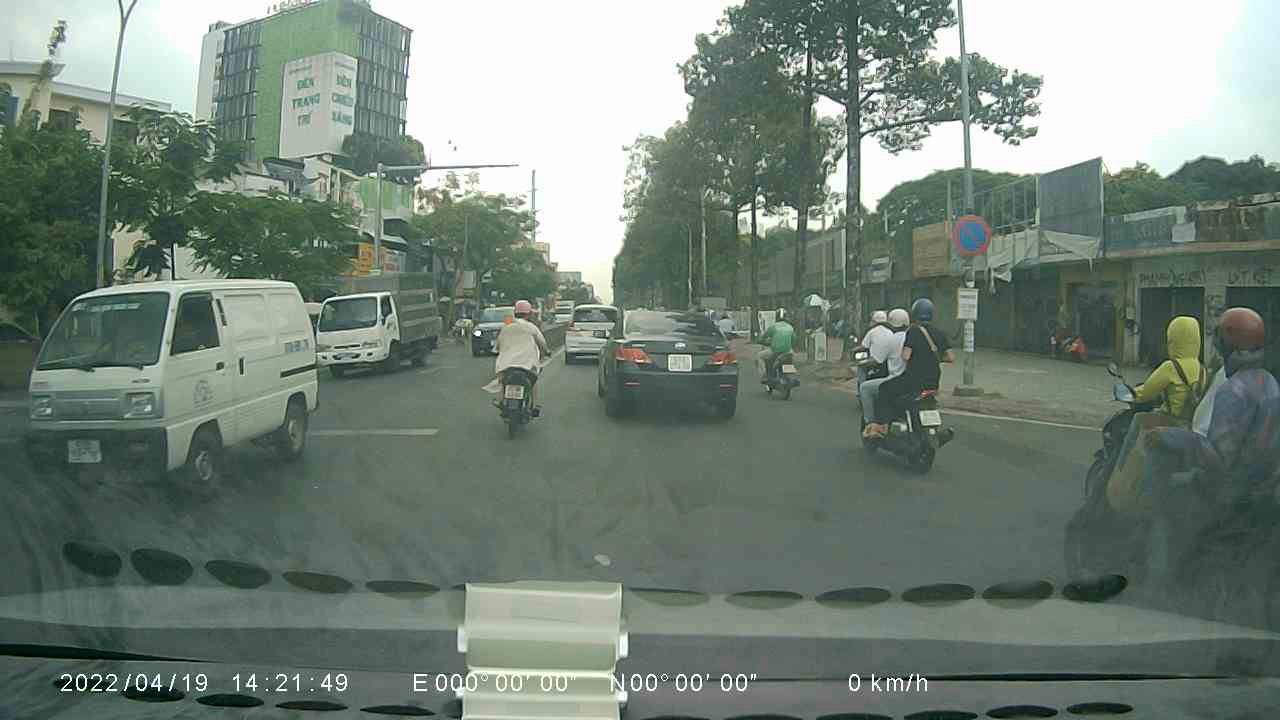Cam do xe: (952, 214, 992, 258)
